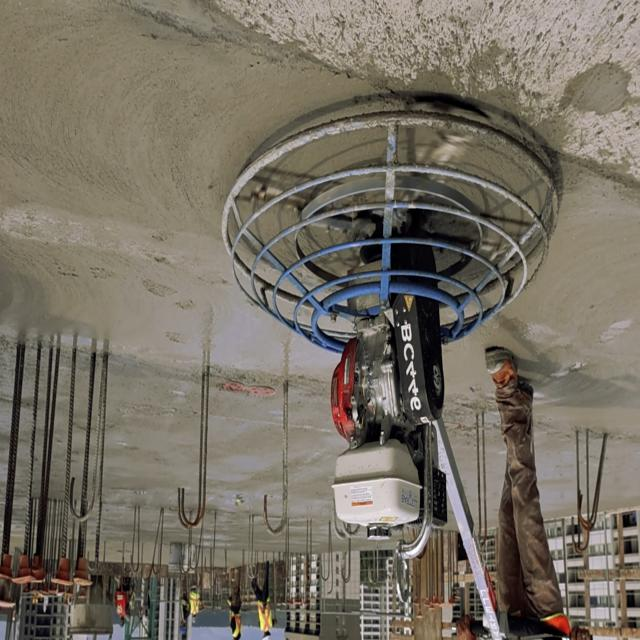Boots: (479, 351, 534, 416)
Vest: (256, 592, 275, 634), (114, 589, 131, 625), (228, 607, 242, 640), (190, 584, 202, 618)
